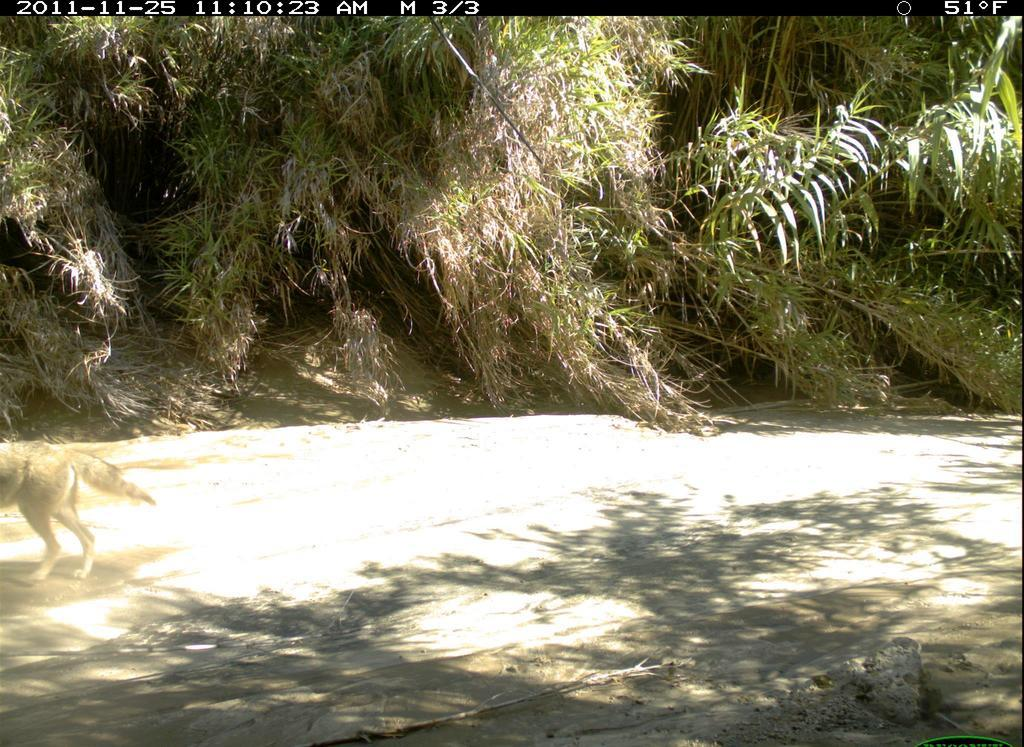coyote: (2, 432, 173, 591)
